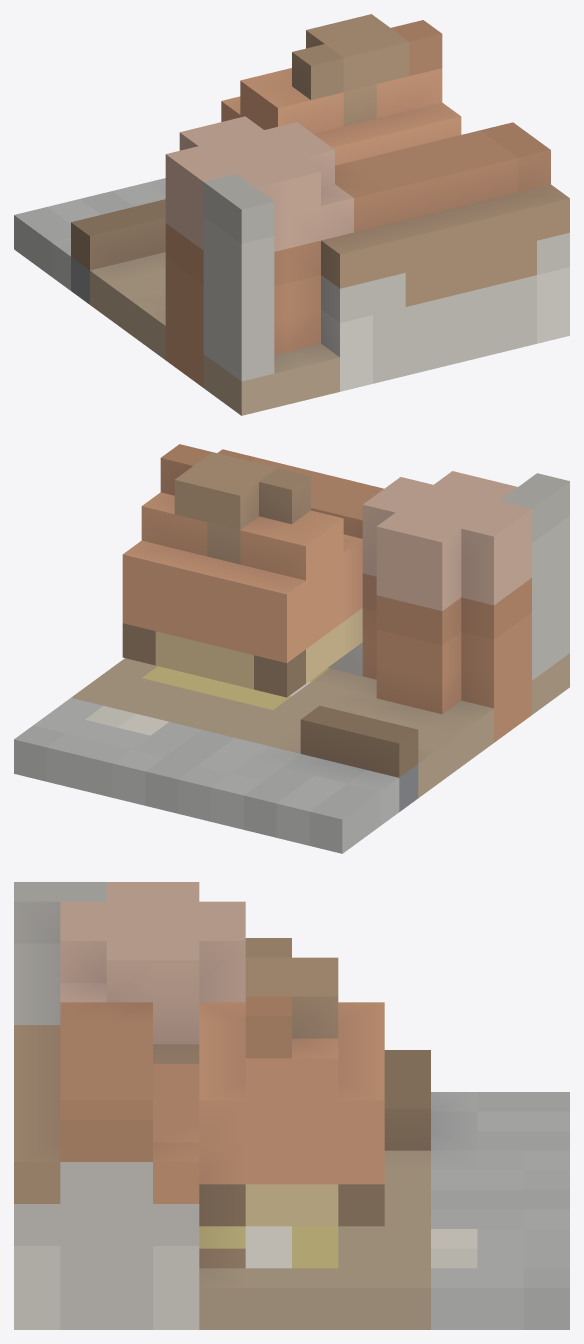
Rendered from grain_distillery.lite.glb.
3 renders of one model, top to bottom at view 1: azimuth 30°, elevation 25°; view 2: azimuth 150°, elevation 25°; view 3: azimuth 270°, elevation 25°, orthographic. The views are drawn at different scales.
Parts seen in each view (by area): view 1: grain_distillery; view 2: grain_distillery; view 3: grain_distillery.
Boxes of the visible parts, <box> form: grain_distillery: <box>14,14,569,415</box>; grain_distillery: <box>14,444,569,853</box>; grain_distillery: <box>14,882,569,1329</box>.
Size of the model in its own units: 5 by 3.5 by 6.
